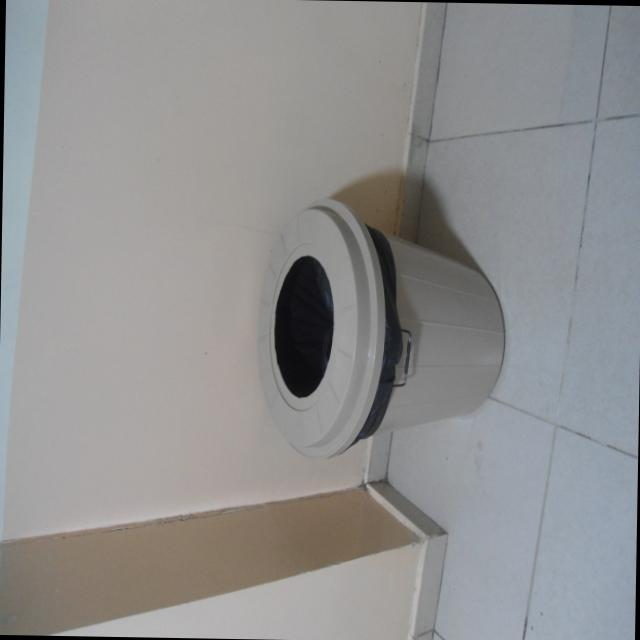dustbin: (258, 200, 504, 457)
path: (387, 2, 640, 640)
